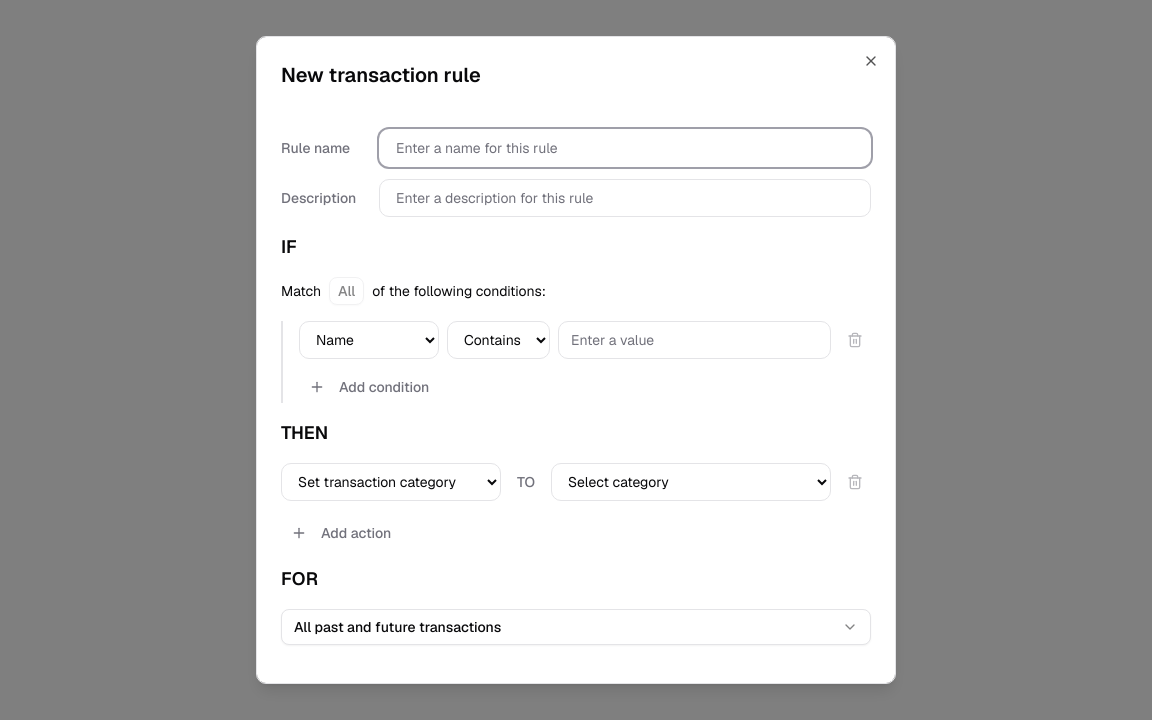
Test: RuleModal › adds and removes conditions and switches the match to Any
Click the button "Add condition".
click(369, 387)  # box [299,371,439,403]
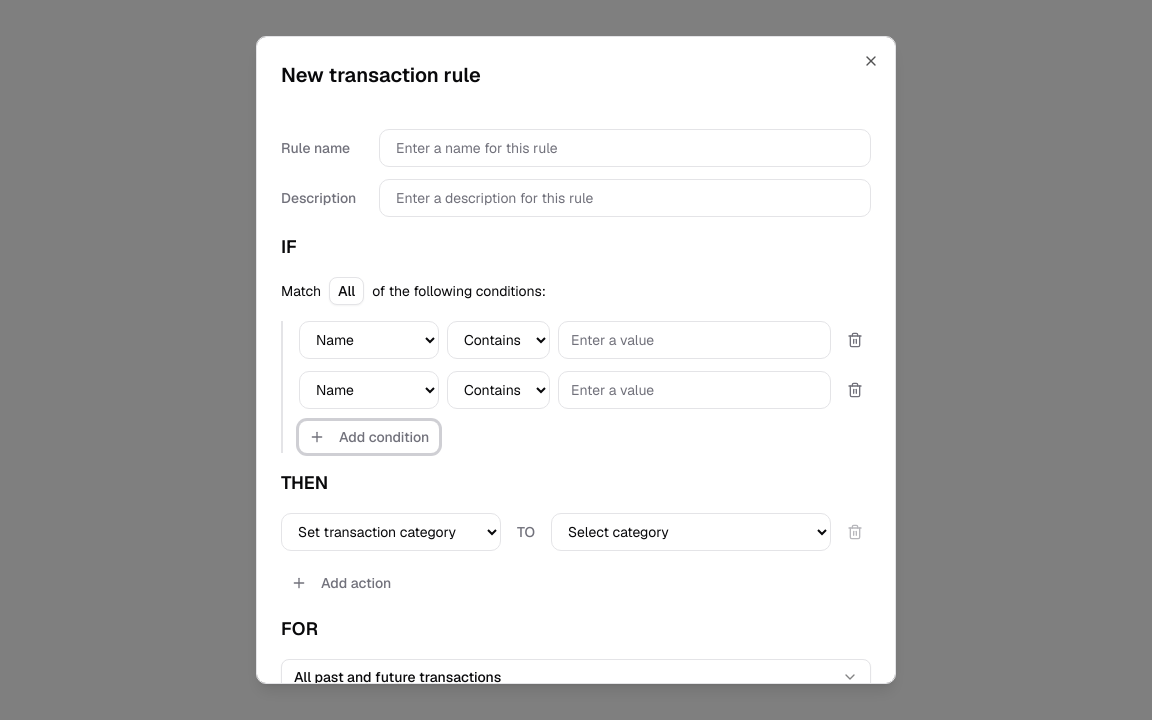
Expected: the number of fields with placeholder "Enter a value" is 2, [558,321,831,359]; [558,371,831,409]
Expected: the button "All" is enabled
Click the button "All".
click(347, 291)  # box [329,277,364,305]
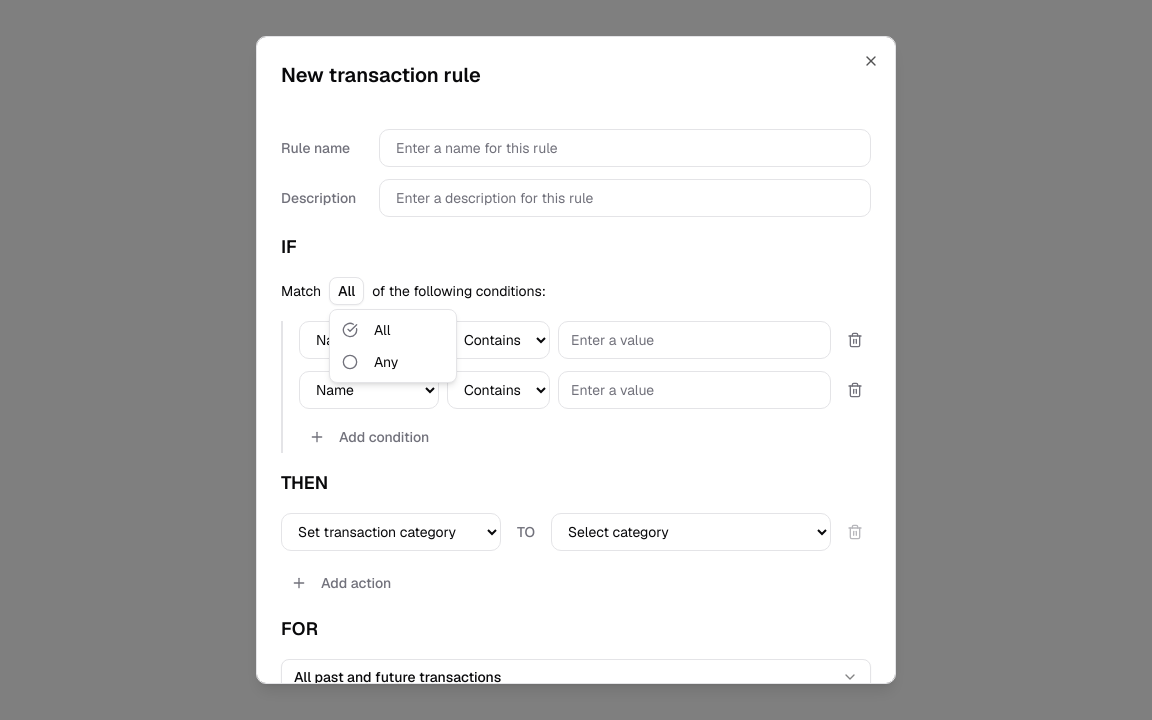
Click the menu item "Any".
click(350, 362)  # box [342,353,398,371]
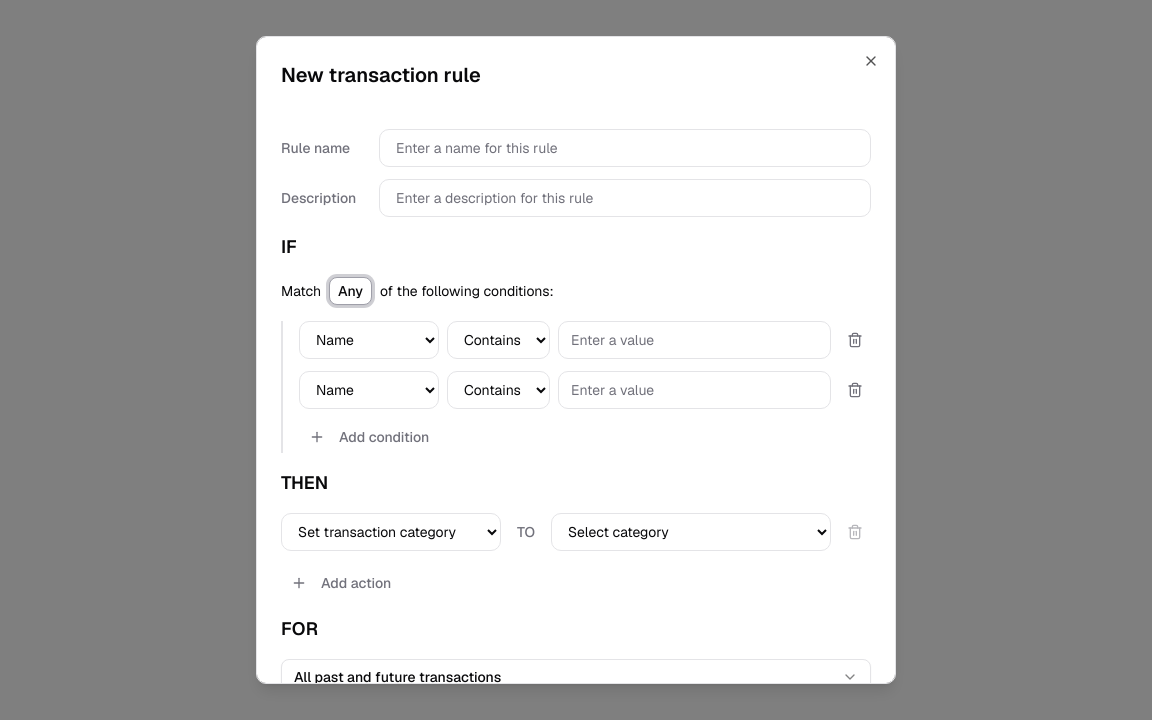
Expected: the button "Any" is shown, [329,277,372,305]
Click the 2nd button named "Remove condition".
click(855, 390)  # box [839,374,871,406]
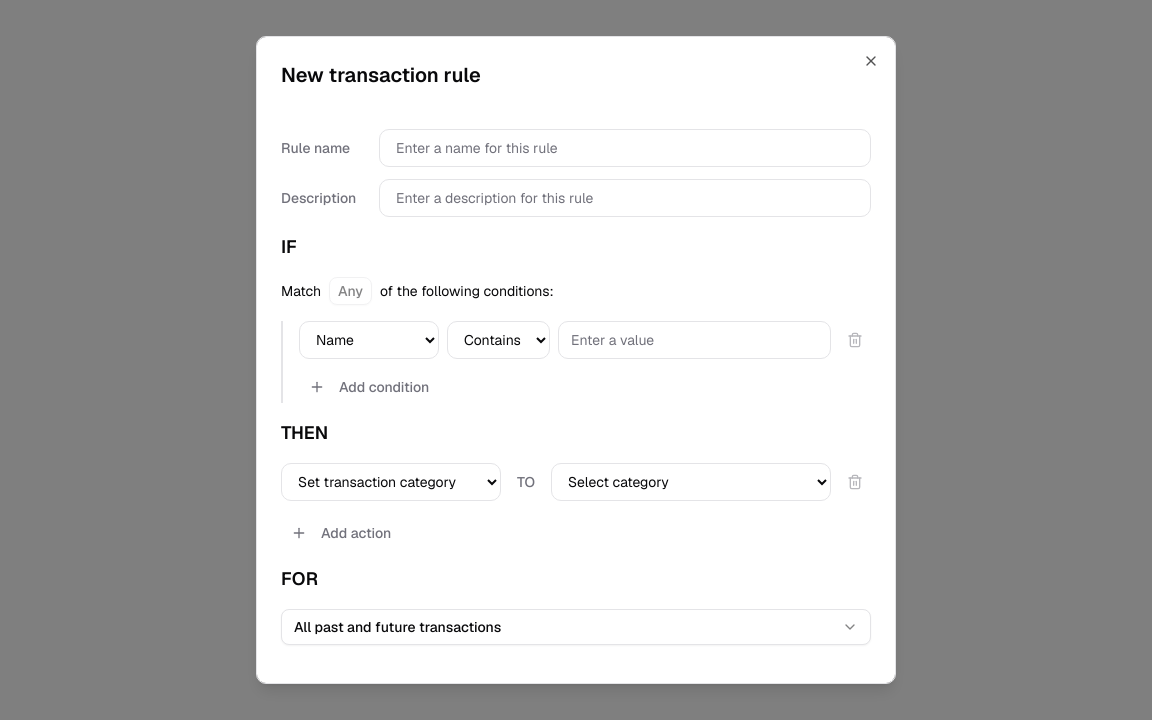
Expected: the number of fields with placeholder "Enter a value" is 1, [558,321,831,359]
